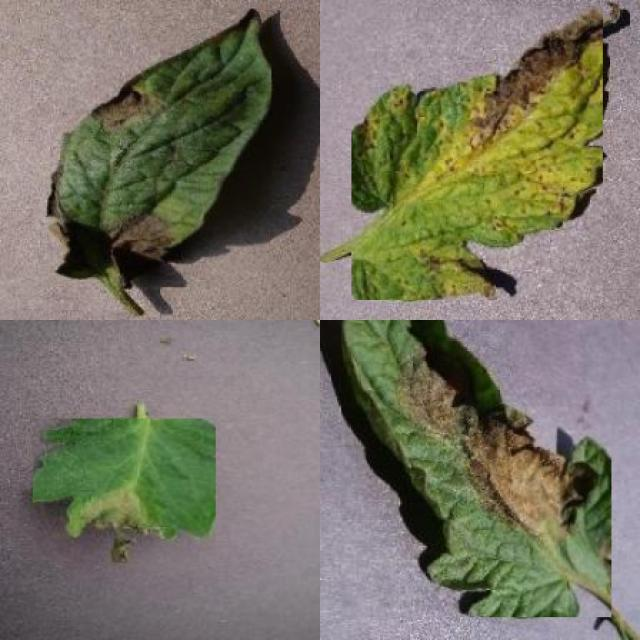Late Blight: (342, 320, 612, 617), (48, 9, 272, 287), (33, 419, 216, 564)
Septoria: (352, 6, 604, 300)
